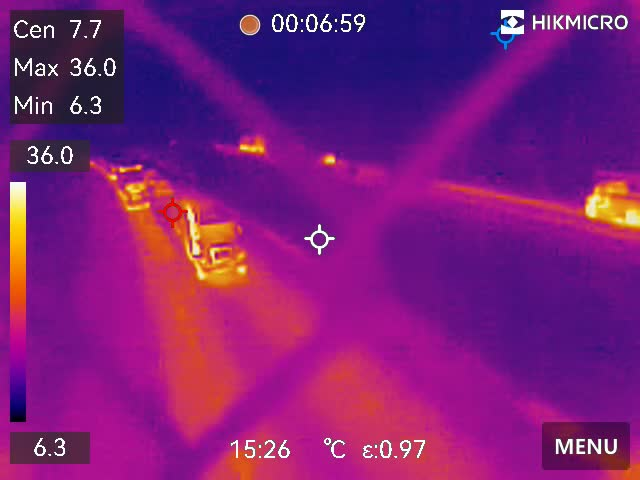heavyTruck: (167, 194, 253, 283)
